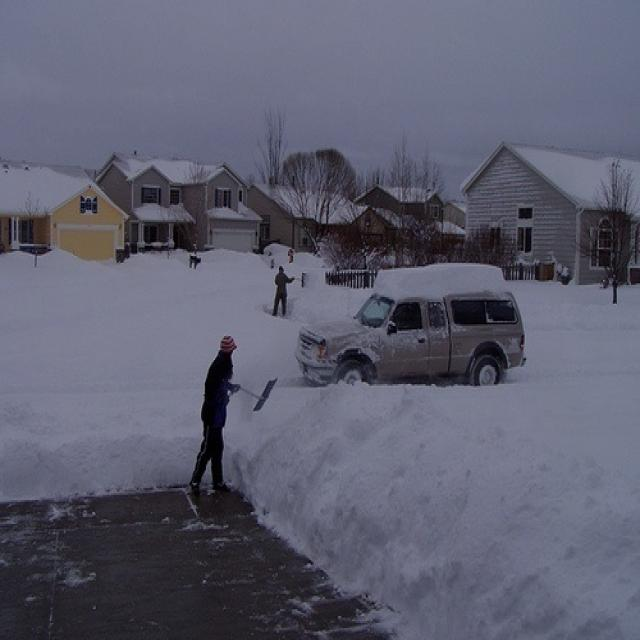non-fight: (186, 334, 246, 524)
